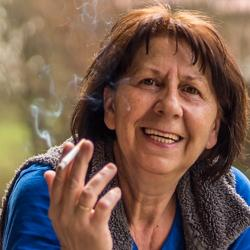smoking: (44, 138, 124, 250)
